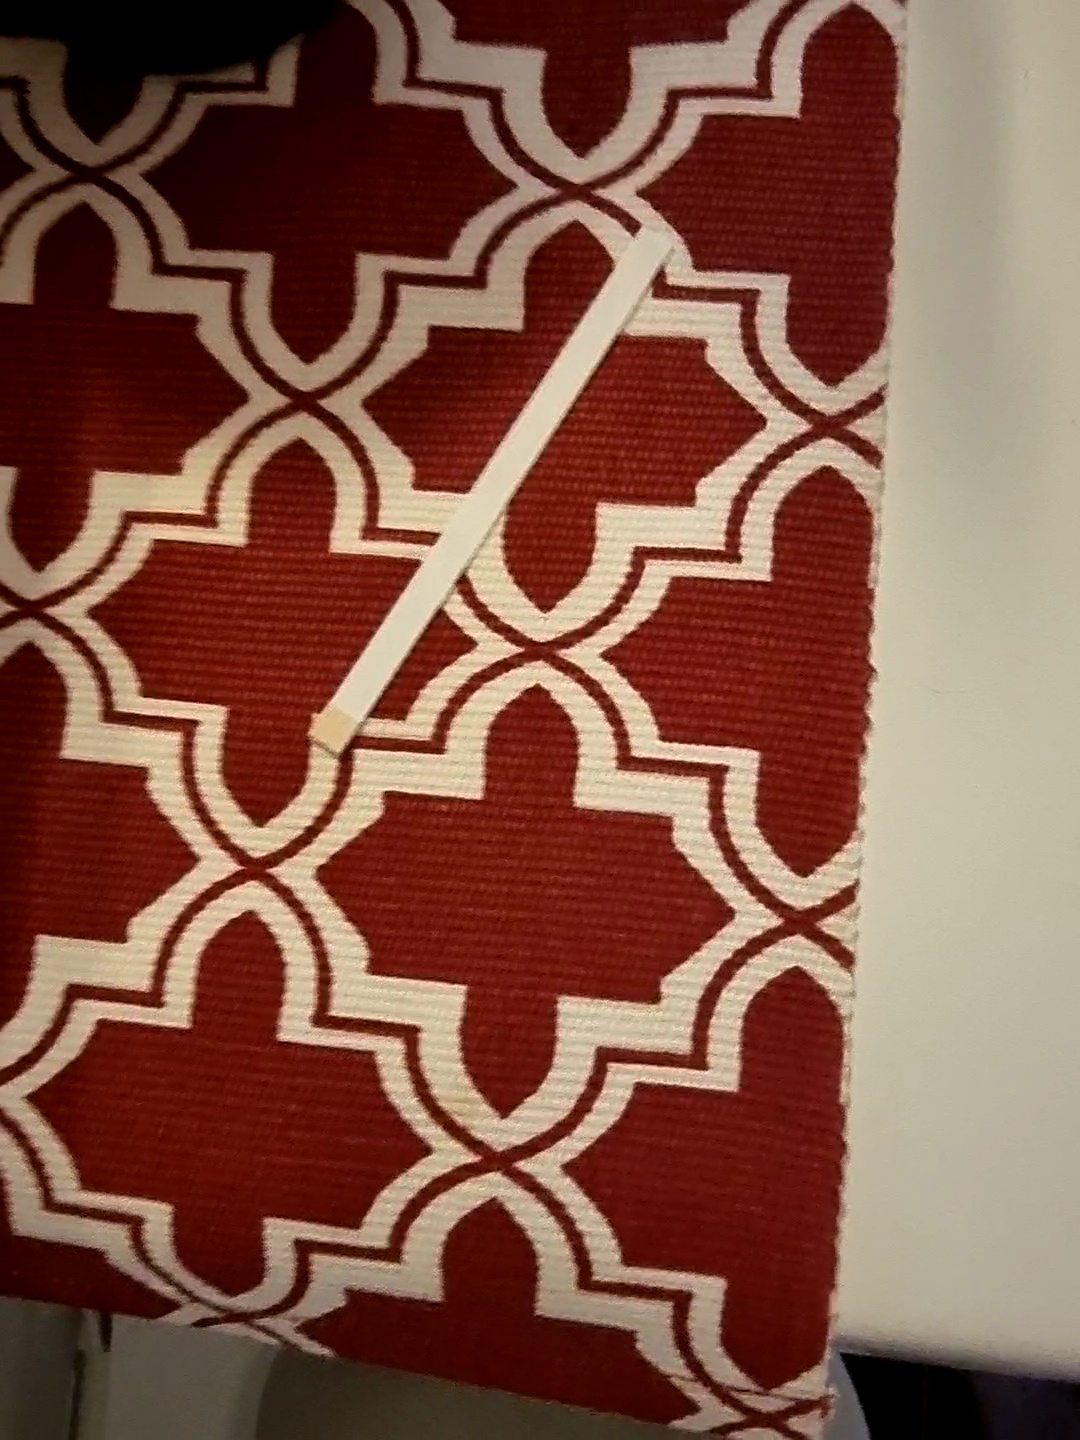keto-tip: (306, 702, 365, 763)
